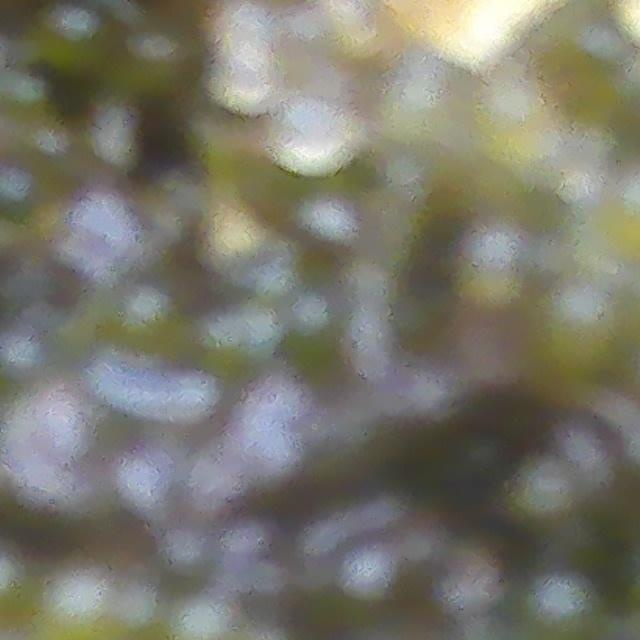SeaGrape: (340, 531, 425, 631), (272, 104, 359, 183), (205, 49, 284, 111), (527, 572, 592, 632), (209, 0, 284, 47)
